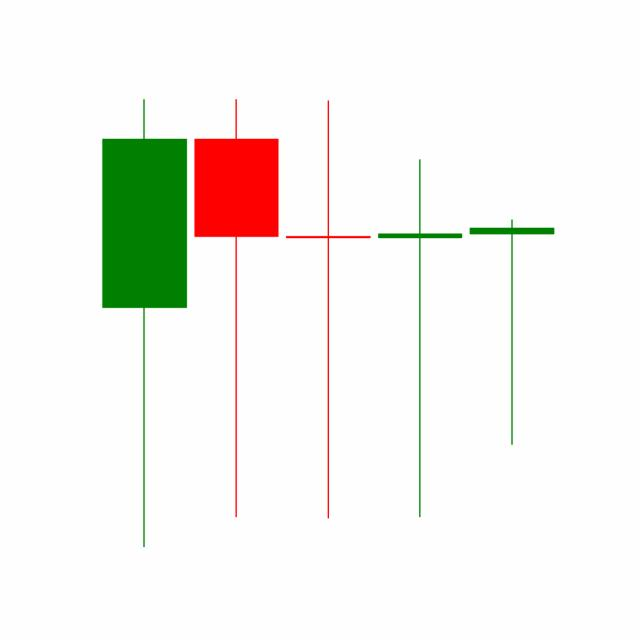Hanging Man: (464, 216, 558, 448)
